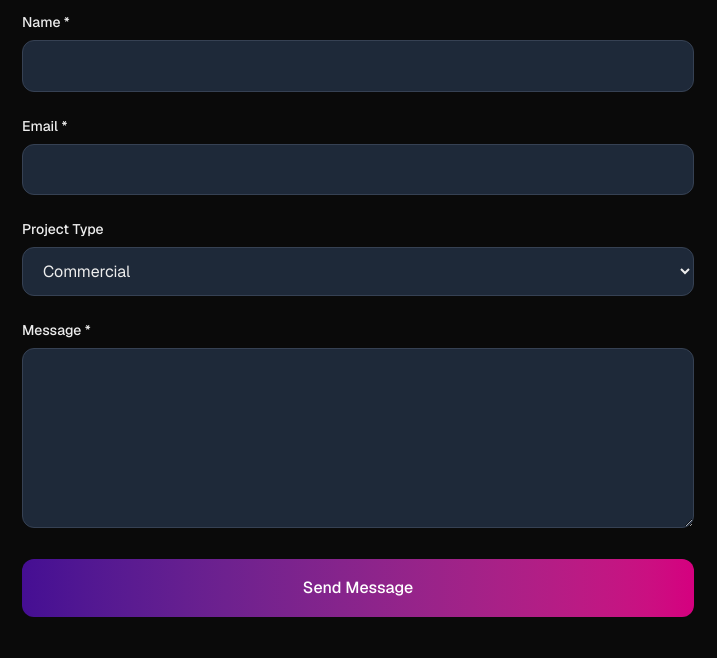
Test case: ContactForm › validates email format
Step 1. Type "John Doe" into the field labelled "Name *" → (358, 66), box [22,40,694,92]
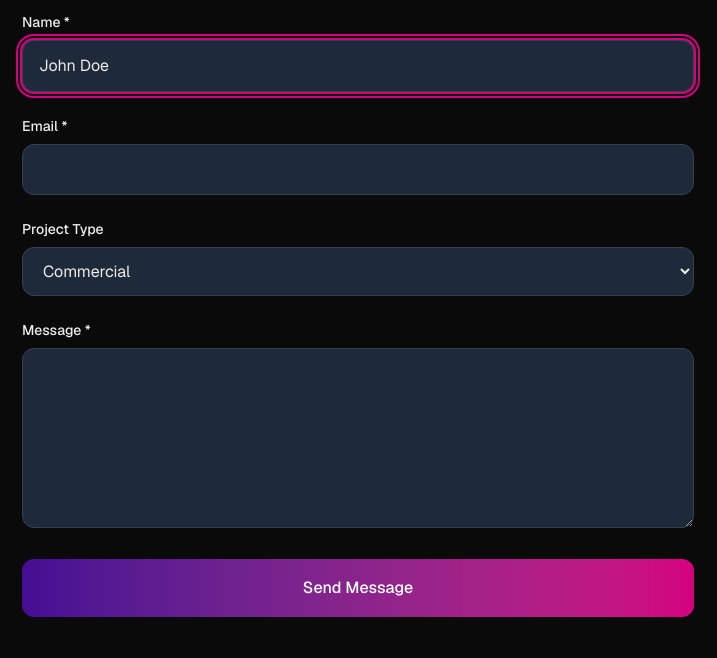
Step 2. Type "invalid-email" into the field labelled "Email *" → (358, 169), box [22,144,694,195]
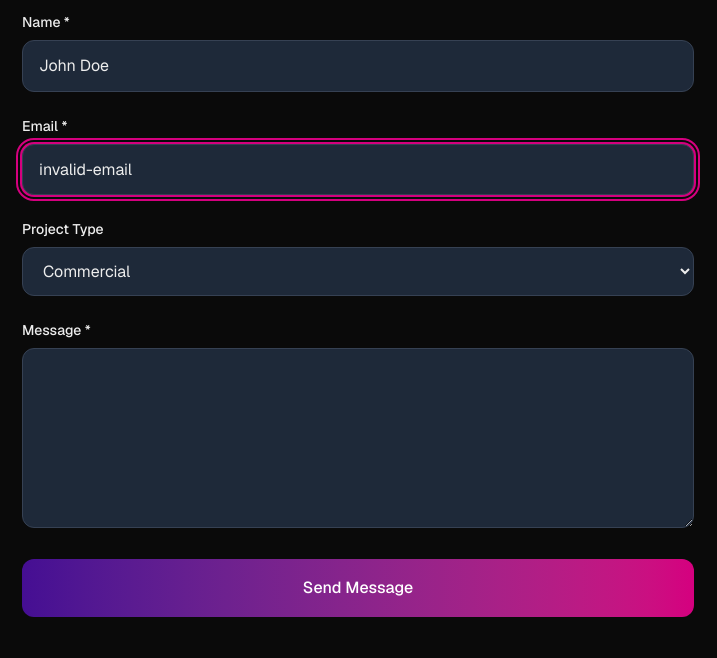
Step 3. Type "This is a valid message with enough characters" into the text box labelled "Message *" → (358, 438), box [22,348,694,528]
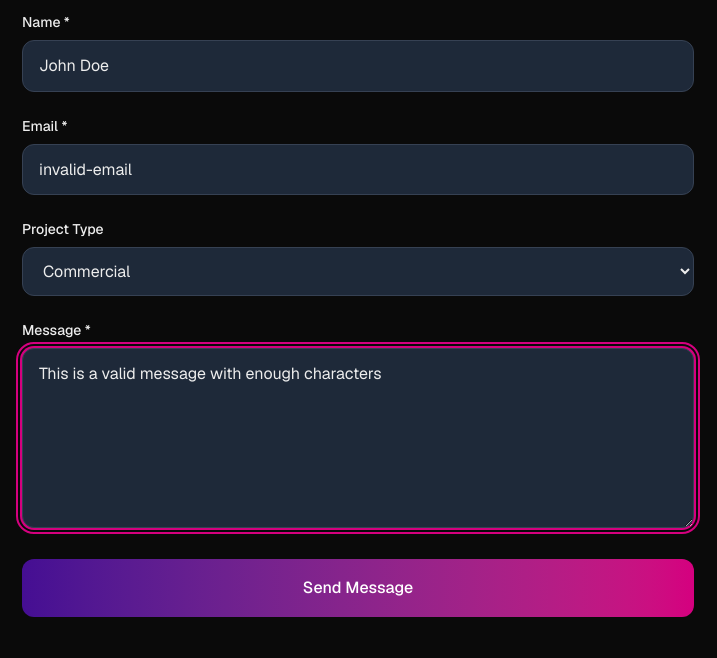
Step 4. Click the button "Send Message" → (358, 588), box [22,559,694,617]
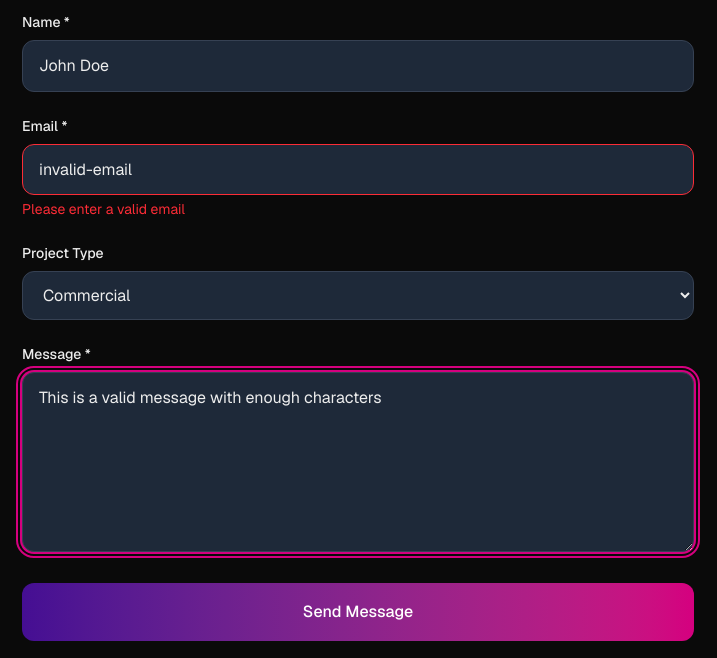
Now the text "Please enter a valid email" is shown, box [22,200,185,218]
